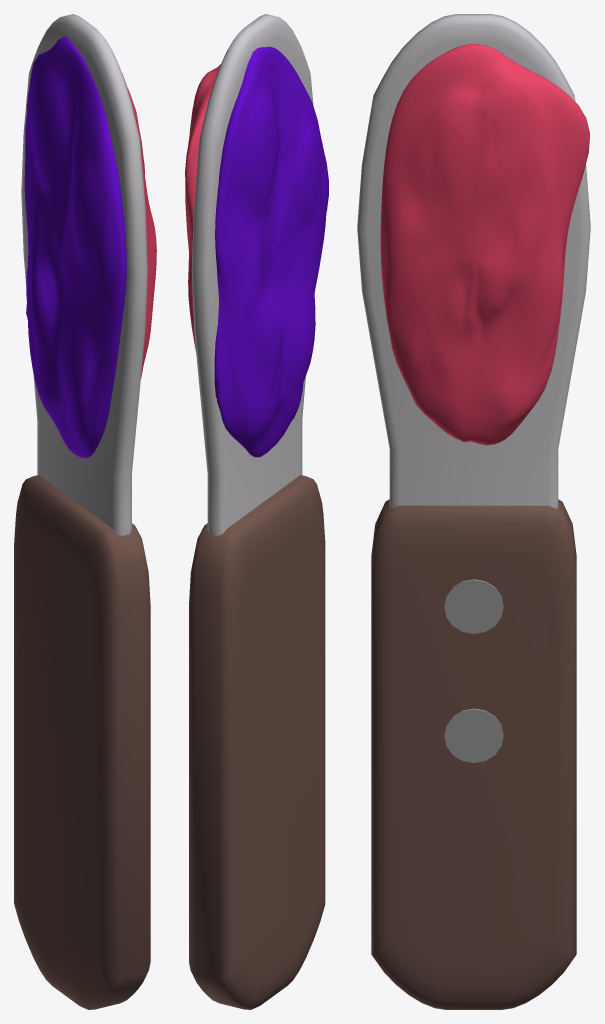
Rendered from butter knife.fbx.
3 views of the same model, side by side, from view 1: azimuth 30°, elevation 25°; view 2: azimuth 150°, elevation 25°; view 3: azimuth 270°, elevation 25° (orthographic).
Parts seen in each view (by area): view 1: Butter knife_L; view 2: Butter knife_L; view 3: Butter knife_L.
Part boxes in pixels (x1=…): Butter knife_L: x1=14, y1=14, x2=156, y2=1009; Butter knife_L: x1=185, y1=14, x2=328, y2=1009; Butter knife_L: x1=357, y1=14, x2=590, y2=1009.
Bounding box in the file's own units: 2.51 × 29.27 × 6.26.
